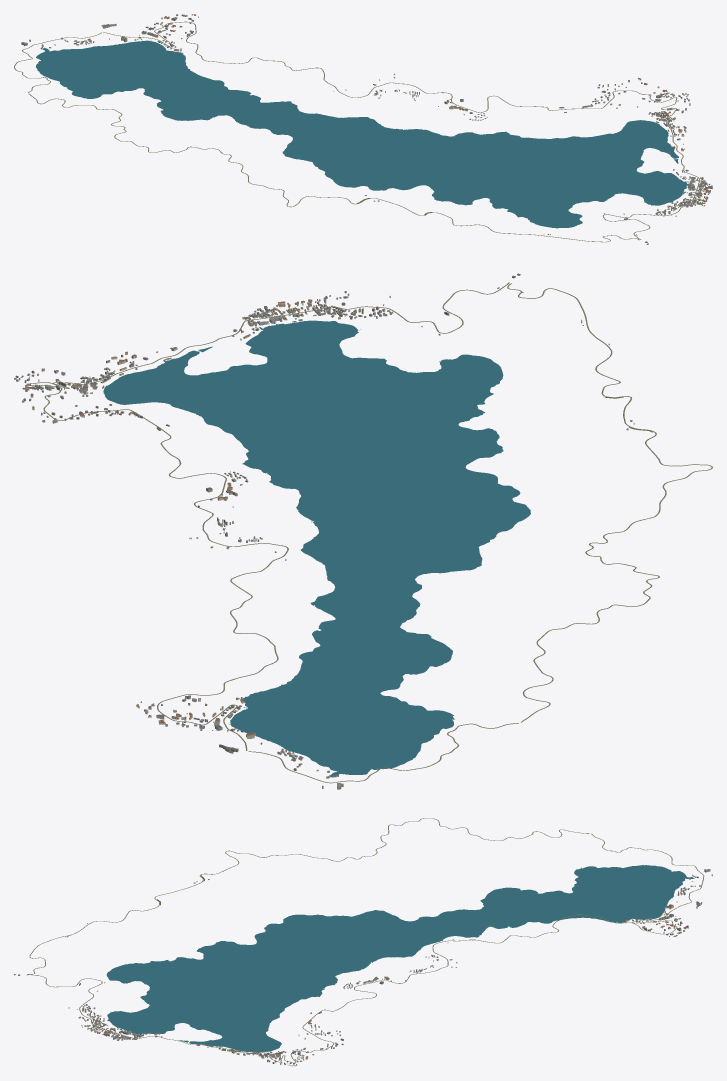
Rendered from world-v4-01.glb.
3 renders of one model, top to bottom at view 1: azimuth 30°, elevation 25°; view 2: azimuth 150°, elevation 25°; view 3: azimuth 270°, elevation 25°, orthographic. The views are drawn at different scales.
Parts seen in each view (by area): view 1: Lake Ashi | OSM shoreline, Loop gravel shoulders; view 2: Lake Ashi | OSM shoreline, Loop gravel shoulders; view 3: Lake Ashi | OSM shoreline, Loop gravel shoulders.
Boxes of the visible parts, x1,y1,x2,y2 form: Lake Ashi | OSM shoreline: [36, 39, 688, 228]; Loop gravel shoulders: [14, 21, 699, 242]; Lake Ashi | OSM shoreline: [103, 320, 530, 777]; Loop gravel shoulders: [29, 282, 712, 783]; Lake Ashi | OSM shoreline: [106, 865, 694, 1052]; Loop gravel shoulders: [27, 818, 704, 1062].
Bounding box in the file's own units: 5229 × 303 × 6734.
